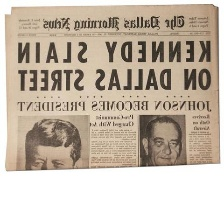news_paper: (0, 2, 220, 171)
